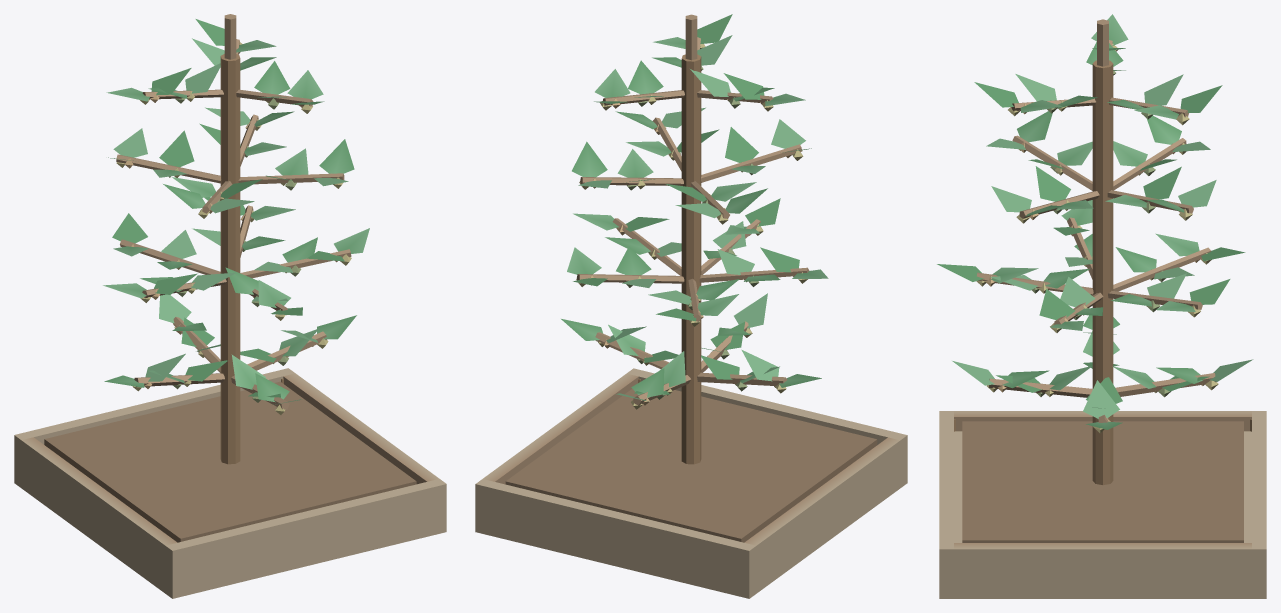
File: cafe_fruto_near.glb
3 views of the same model, side by side, from view 1: azimuth 30°, elevation 25°; view 2: azimuth 150°, elevation 25°; view 3: azimuth 270°, elevation 25° (orthographic). The views are drawn at different scales.
Visible parts, largest first — view 1: model; view 2: model; view 3: model.
Boxes of the visible parts, x1,y1,x2,y2 form: model: [14, 14, 446, 598]; model: [475, 14, 907, 598]; model: [937, 14, 1266, 598].
Size of the model in its own units: 1 by 1.71 by 1.01.
